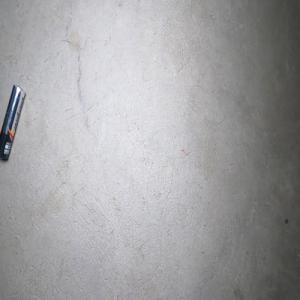Battery: (0, 84, 25, 161)
